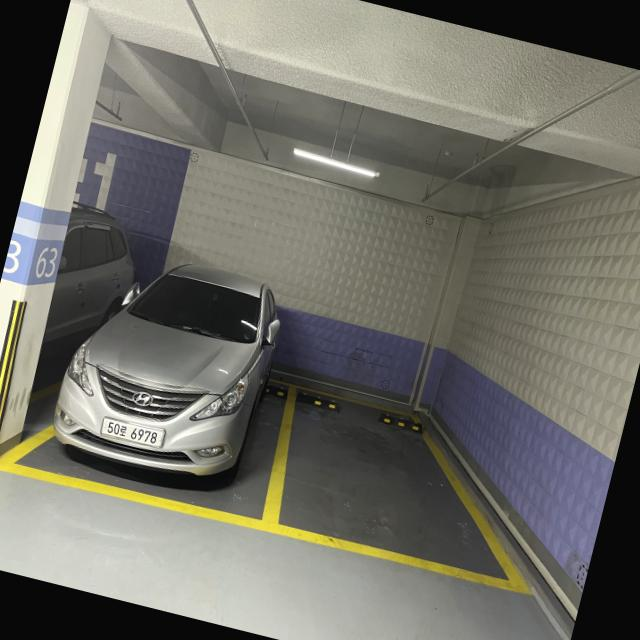car: (38, 225, 313, 517)
free: (260, 376, 538, 590)
